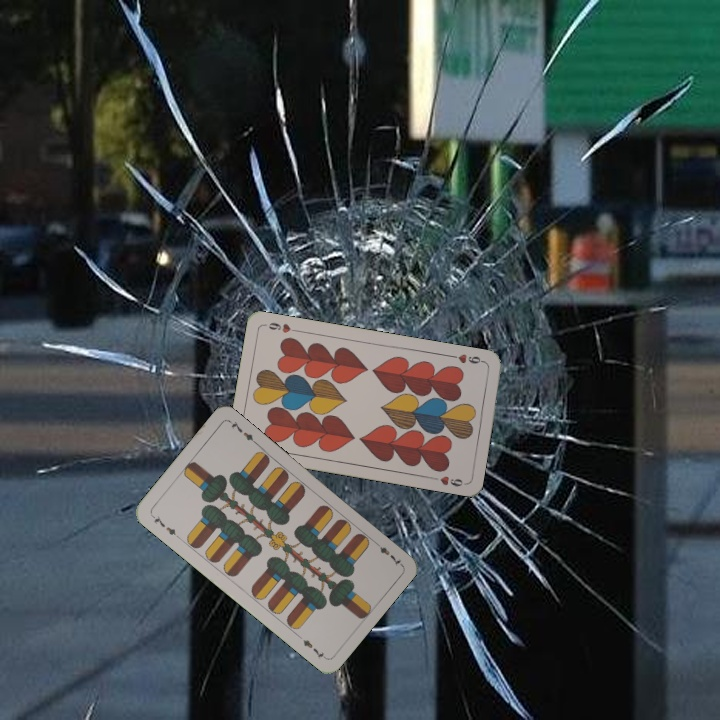E7: (370, 537, 404, 569), (147, 511, 182, 541)
H9: (447, 350, 487, 366)
